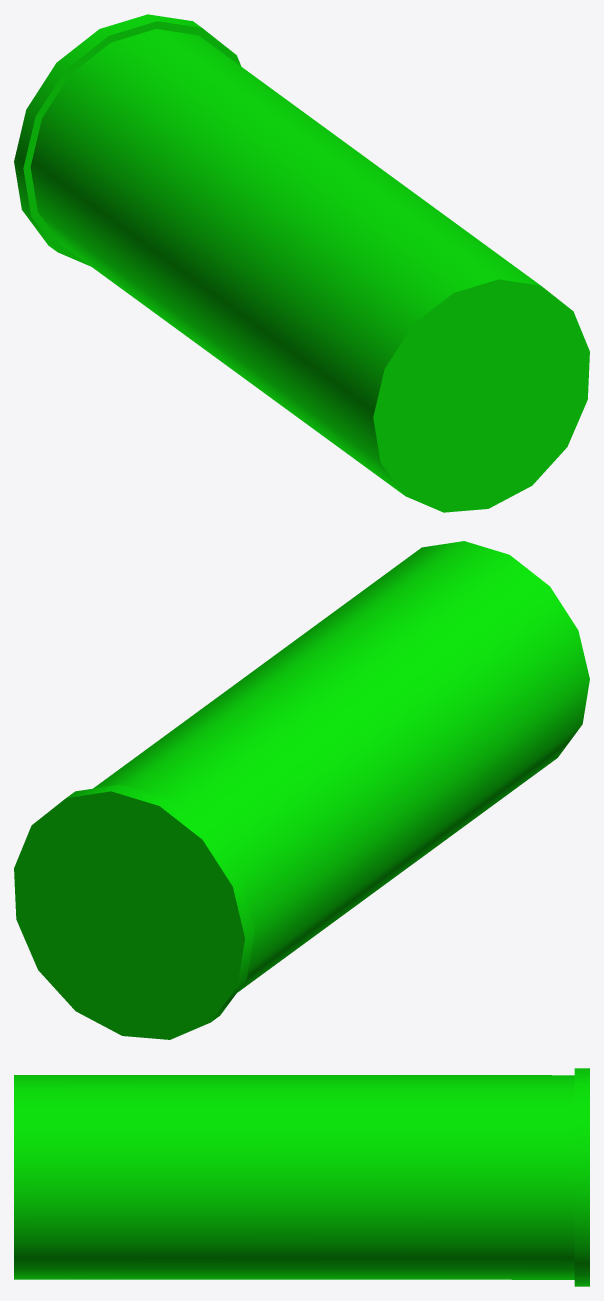
Rendered from 8_Gauge_Shell.fbx.
The picture shows the model from 3 angles, top to bottom: view 1: azimuth 30°, elevation 25°; view 2: azimuth 150°, elevation 25°; view 3: azimuth 270°, elevation 25°; orthographic projection. The views are drawn at different scales.
Visible parts, largest first — view 1: Shell1; view 2: Shell1; view 3: Shell1.
Boxes of the visible parts, left/top/right/bottom form: Shell1: left=14, top=14, right=589, bottom=512; Shell1: left=14, top=541, right=589, bottom=1039; Shell1: left=14, top=1068, right=589, bottom=1286.
Size of the model in its own units: 2.4 by 2.4 by 6.34.
